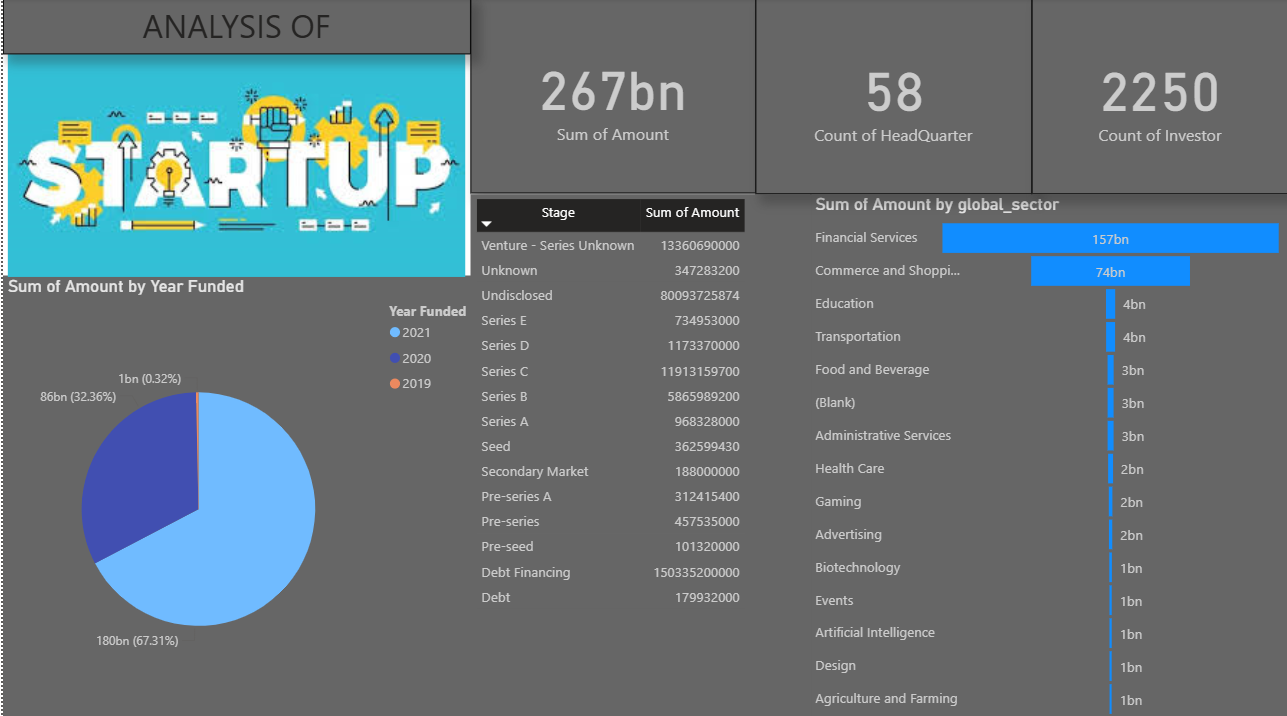

What the dashboard file says about the page in this screenshot:
{"tool":"powerbi","page":{"name":"Page 1","canvas":[1280,720],"ordinal":0},"visuals":[{"type":"pieChart","fields":{"Category":["Sheet1.Year Funded"],"Y":["Sum(Sheet1.Amount)"]},"box":[0,275.8,484.4,444.6],"z":0},{"type":"funnel","fields":{"Y":["Sum(Sheet1.Amount)"],"Category":["Sheet1.global_sector"]},"box":[804.1,194.9,476.2,525.6],"z":1000},{"type":"image","box":[0,0,465.2,327.2],"z":2000},{"type":"card","fields":{"Values":["Sum(Sheet1.Amount)"]},"box":[464.7,0,284.3,194],"z":3000},{"type":"tableEx","fields":{"Values":["Sheet1.Stage","Sum(Sheet1.Amount)"]},"box":[465.2,194.9,338.9,525.6],"z":4000},{"type":"card","fields":{"Values":["Count(Sheet1.HeadQuarter)"]},"box":[748.9,0,274.9,195.3],"z":5000},{"type":"card","fields":{"Values":["CountNonNull(Sheet1.Investor)"]},"box":[1023.8,0,256.3,195.3],"z":6000},{"type":"textbox","box":[0,0,465.2,56],"z":7000}]}

Visuals, with their boxes in screenshot pixels (x1, y1, x2, y2), scaled from the page's 1280x720 canvas onto the 1287x716 screenshot:
pieChart - Sheet1.Year Funded x Sum(Sheet1.Amount): select_region(0, 274, 487, 715)
funnel - Sum(Sheet1.Amount) x Sheet1.global_sector: select_region(808, 194, 1286, 715)
image: select_region(0, 0, 468, 325)
card - Sum(Sheet1.Amount): select_region(467, 0, 753, 193)
tableEx - Sheet1.Stage x Sum(Sheet1.Amount): select_region(468, 194, 808, 715)
card - Count(Sheet1.HeadQuarter): select_region(753, 0, 1029, 194)
card - CountNonNull(Sheet1.Investor): select_region(1029, 0, 1286, 194)
textbox: select_region(0, 0, 468, 56)
